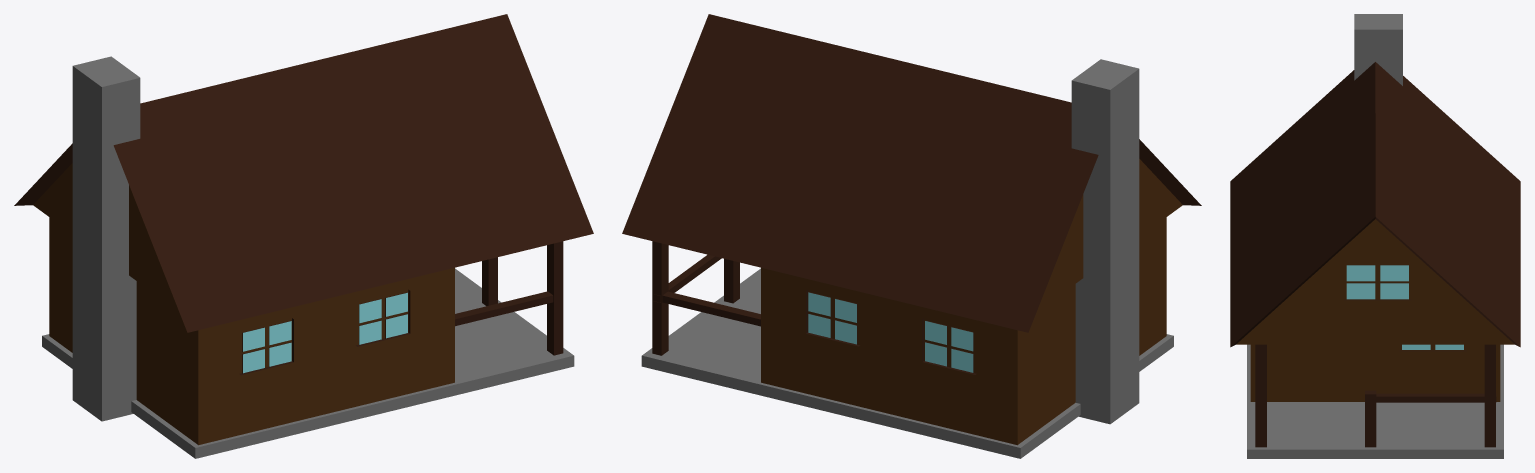
File: Camp3.dae
3 views of the same model, side by side, from view 1: azimuth 30°, elevation 25°; view 2: azimuth 150°, elevation 25°; view 3: azimuth 270°, elevation 25° (orthographic). The views are drawn at different scales.
Visible parts, largest first — view 1: Camp3; view 2: Camp3; view 3: Camp3.
Boxes of the visible parts, x1,y1,x2,y2 form: Camp3: (14,14,593,458); Camp3: (622,14,1201,458); Camp3: (1230,14,1520,458).
Bounding box in the file's own units: 4.47 × 3.21 × 3.42.
